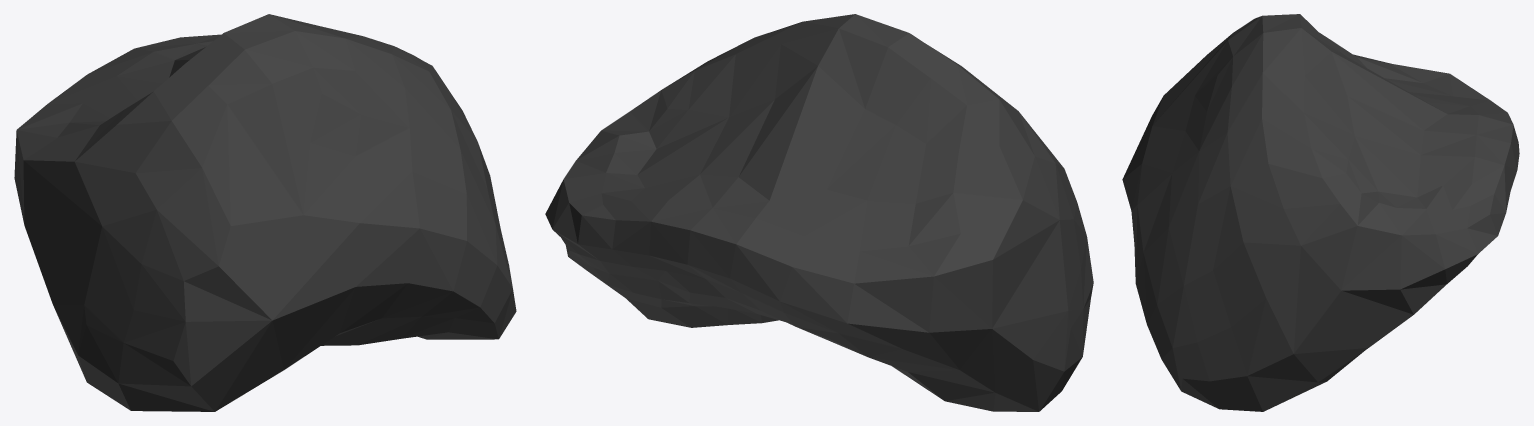
File: LHL_P2.glb
The picture shows the model from 3 angles, left to right: view 1: azimuth 30°, elevation 25°; view 2: azimuth 150°, elevation 25°; view 3: azimuth 270°, elevation 25°; orthographic projection. The views are drawn at different scales.
Visible parts, largest first — view 1: LHL_P2; view 2: LHL_P2; view 3: LHL_P2.
Part boxes in pixels (left/top/right/bottom): LHL_P2: left=14, top=14, right=516, bottom=411; LHL_P2: left=545, top=14, right=1093, bottom=411; LHL_P2: left=1122, top=14, right=1519, bottom=411.
Bounding box in the file's own units: 10.96 × 8.43 × 9.83.
1 material, 1 textured.
